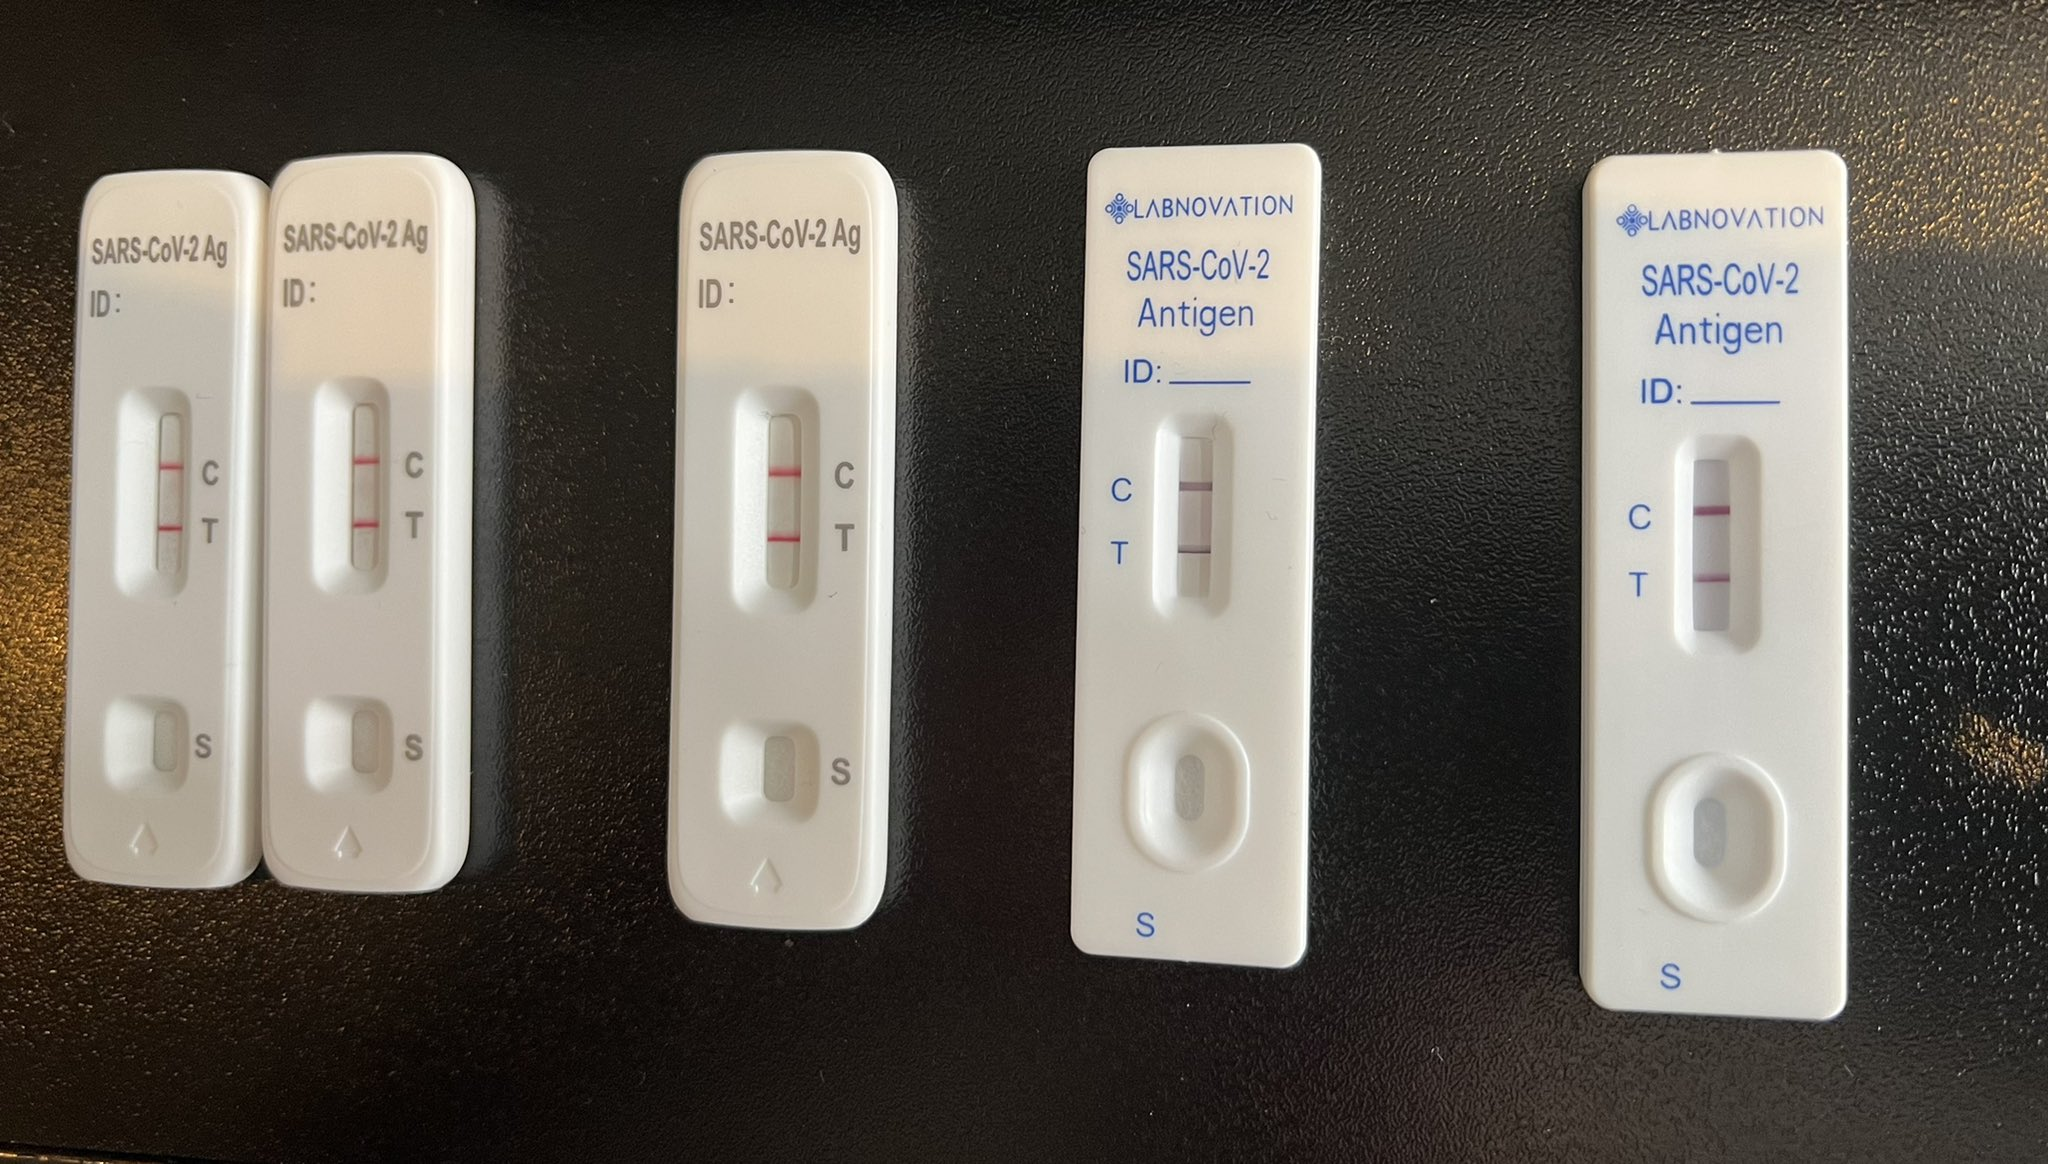positive: (741, 392, 813, 612), (315, 384, 390, 595), (121, 389, 191, 595), (1684, 446, 1755, 642), (1165, 418, 1229, 628)
